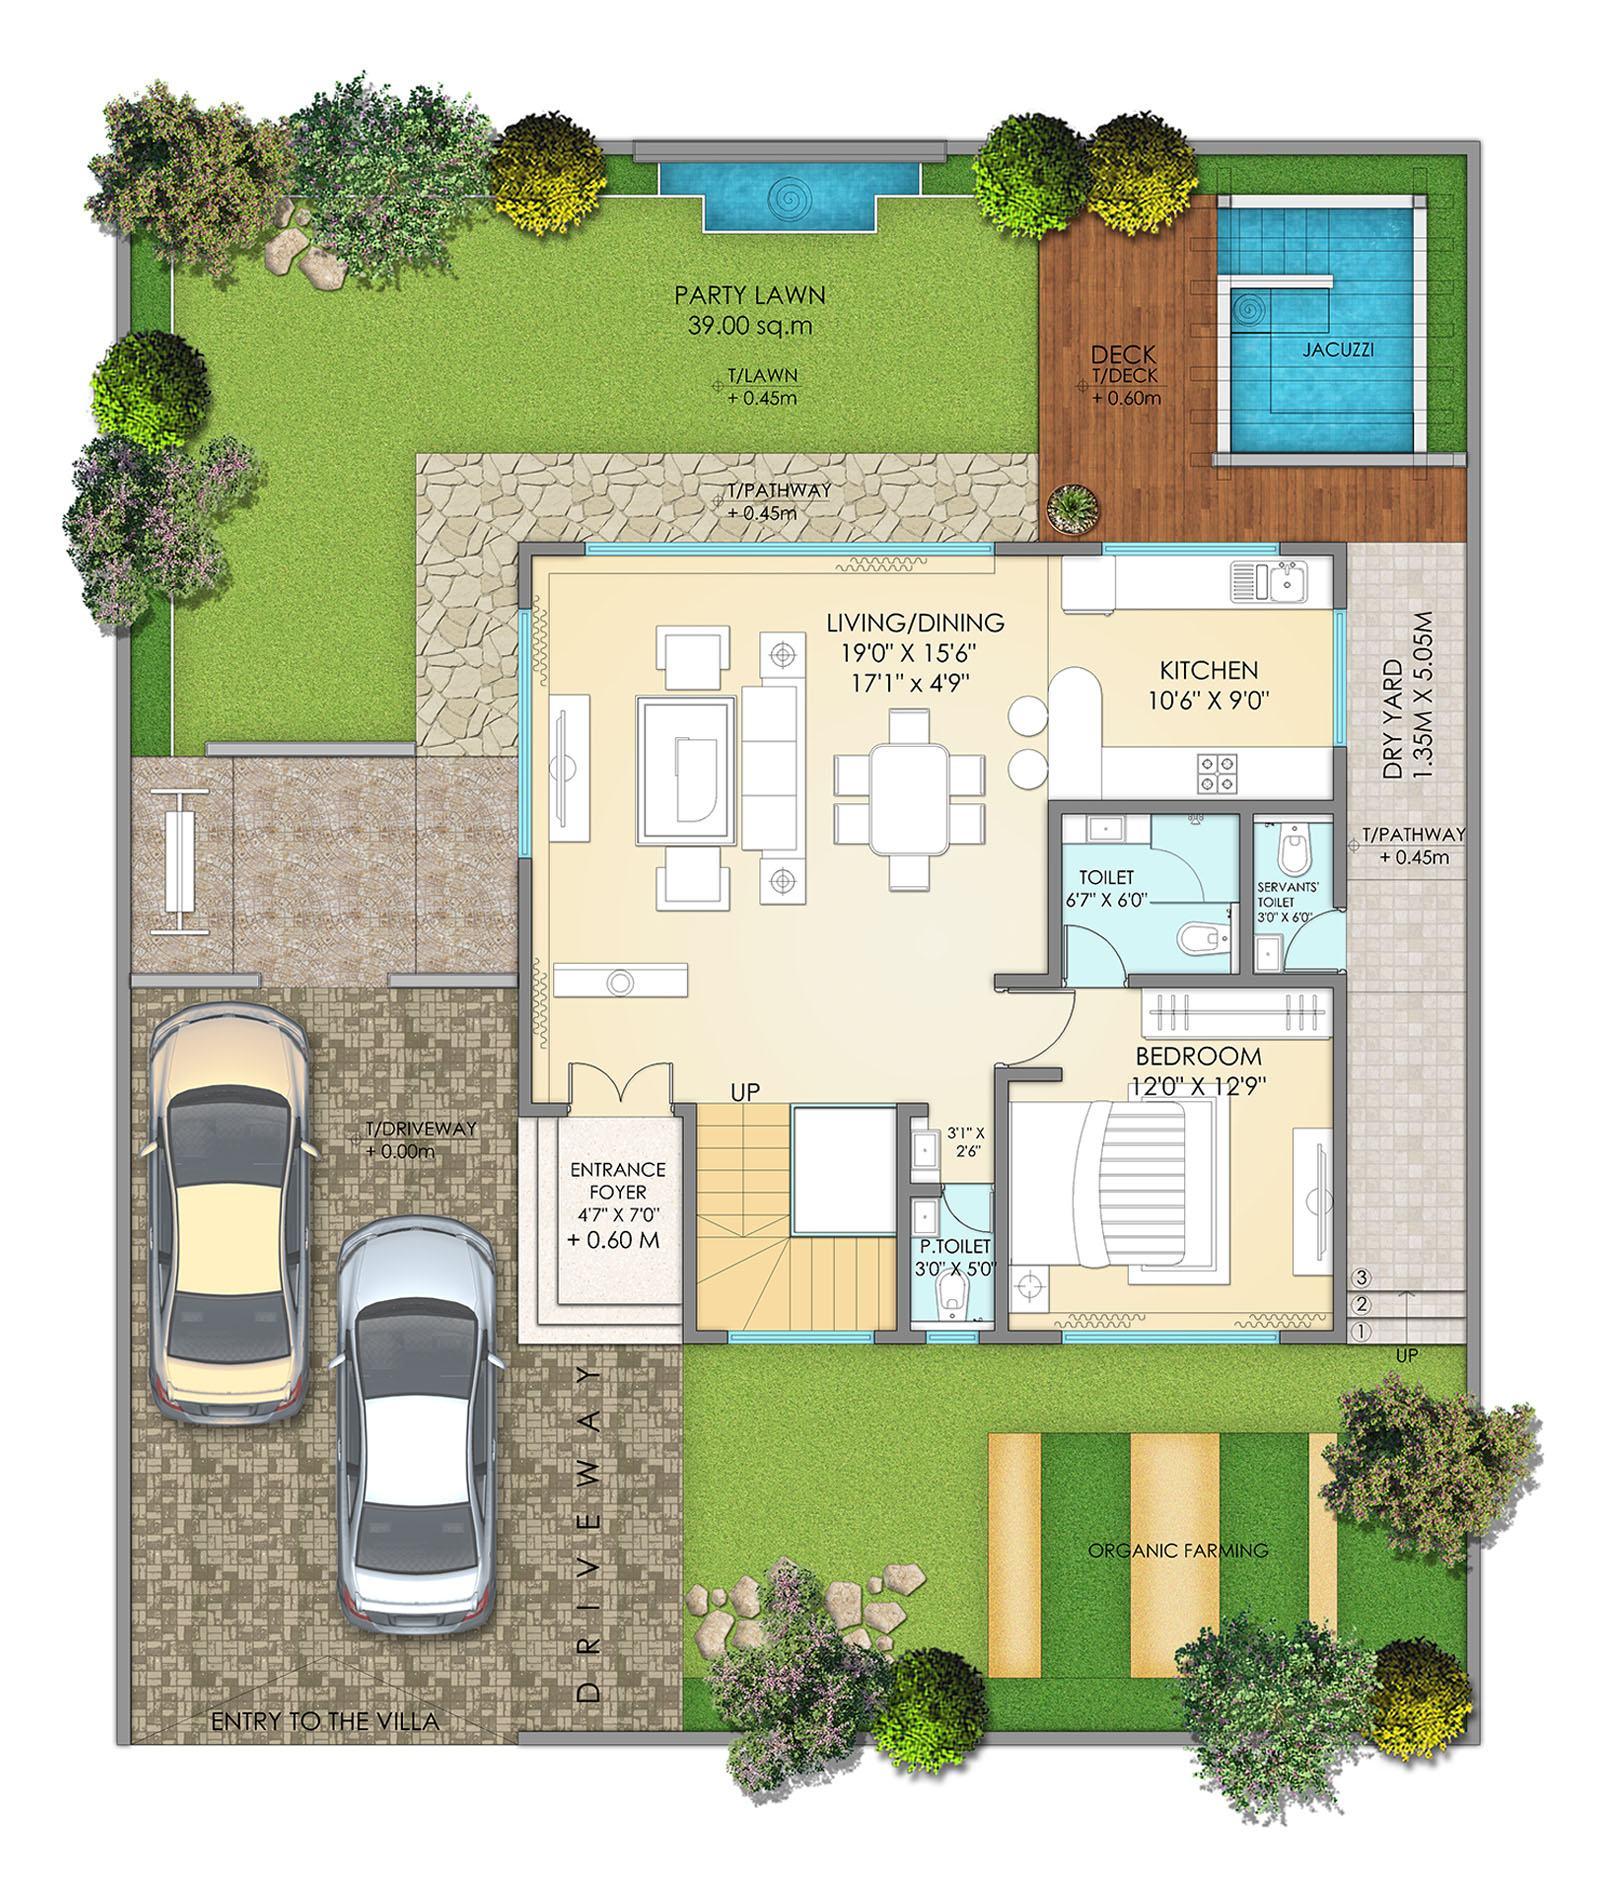door: (566, 1056, 675, 1109), (1008, 988, 1080, 1067), (1062, 916, 1127, 983)
